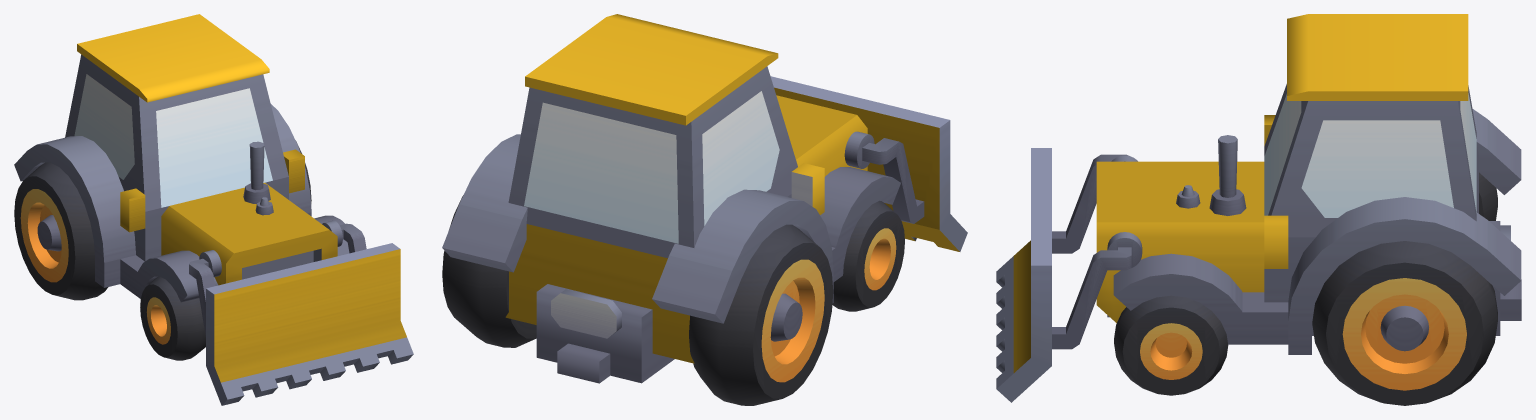
The model's file is kenney-car-kit-tractor-shovel.glb.
The picture shows the model from 3 angles, left to right: view 1: azimuth 30°, elevation 25°; view 2: azimuth 150°, elevation 25°; view 3: azimuth 270°, elevation 25°; orthographic projection. The views are drawn at different scales.
Visible parts, largest first — view 1: body, shovel, wheel-back-right, wheel-front-right; view 2: body, wheel-back-right, shovel, wheel-front-right, wheel-back-left; view 3: body, wheel-back-left, shovel, wheel-front-left, wheel-back-right.
Boxes of the visible parts, left/top/right/bottom form: body: left=14, top=14, right=349, bottom=302; shovel: left=189, top=220, right=413, bottom=405; wheel-back-right: left=14, top=162, right=108, bottom=300; wheel-front-right: left=140, top=276, right=205, bottom=360; body: left=442, top=14, right=900, bottom=383; wheel-back-right: left=689, top=224, right=833, bottom=405; shovel: left=770, top=76, right=967, bottom=251; wheel-front-right: left=832, top=200, right=904, bottom=311; wheel-back-left: left=442, top=195, right=536, bottom=347; body: left=1096, top=14, right=1521, bottom=354; wheel-back-left: left=1312, top=241, right=1497, bottom=405; shovel: left=996, top=148, right=1142, bottom=402; wheel-front-left: left=1114, top=295, right=1228, bottom=395; wheel-back-right: left=1479, top=172, right=1497, bottom=220.
Size of the model in its own units: 1.66 by 1.51 by 2.47.
1 material, 1 textured.
